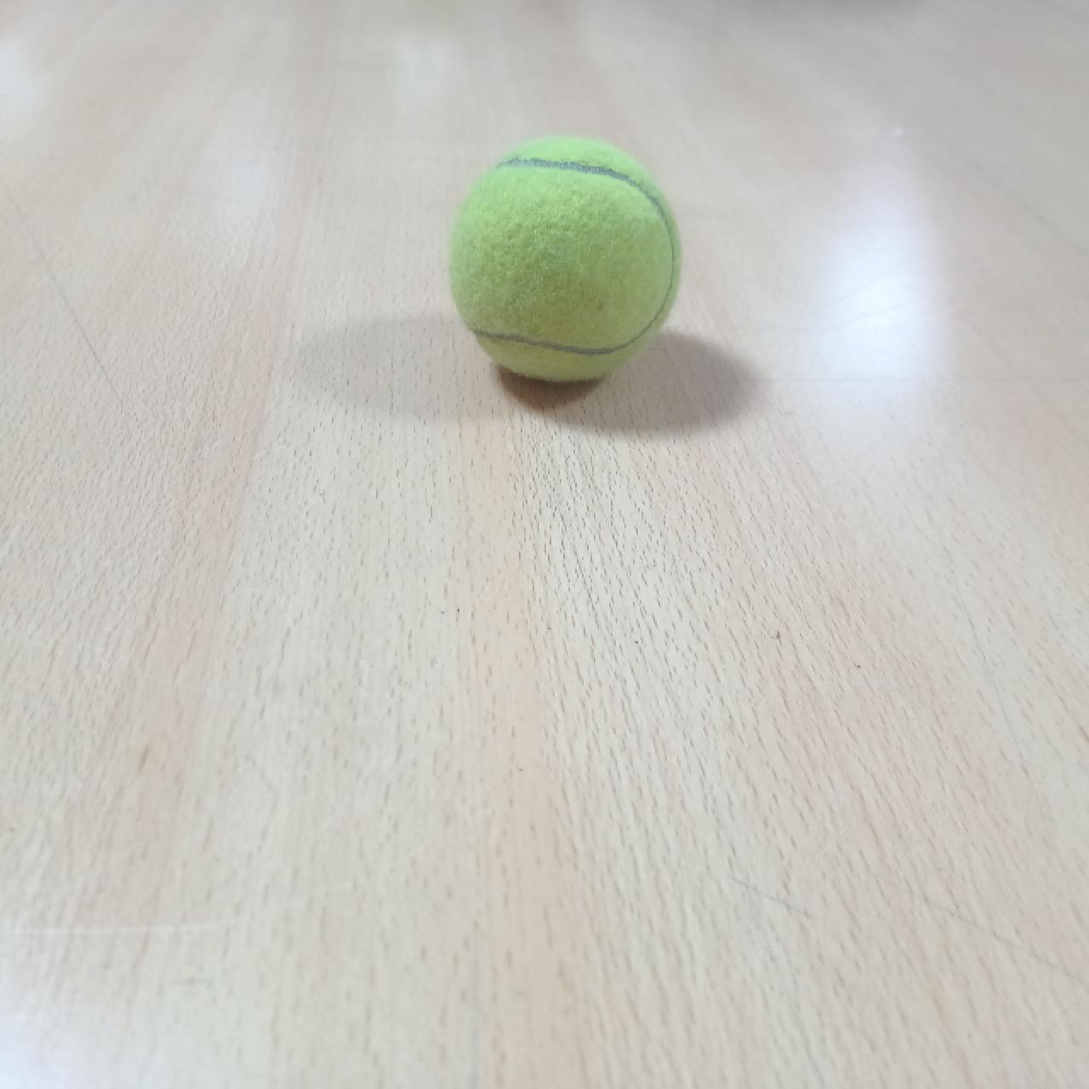tennis-ball: (453, 133, 680, 392)
